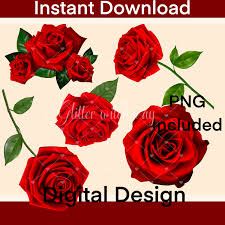lale: (128, 102, 207, 188), (16, 136, 94, 218), (50, 93, 121, 149), (24, 24, 80, 74), (115, 21, 158, 82), (5, 48, 35, 91), (63, 54, 98, 84)
